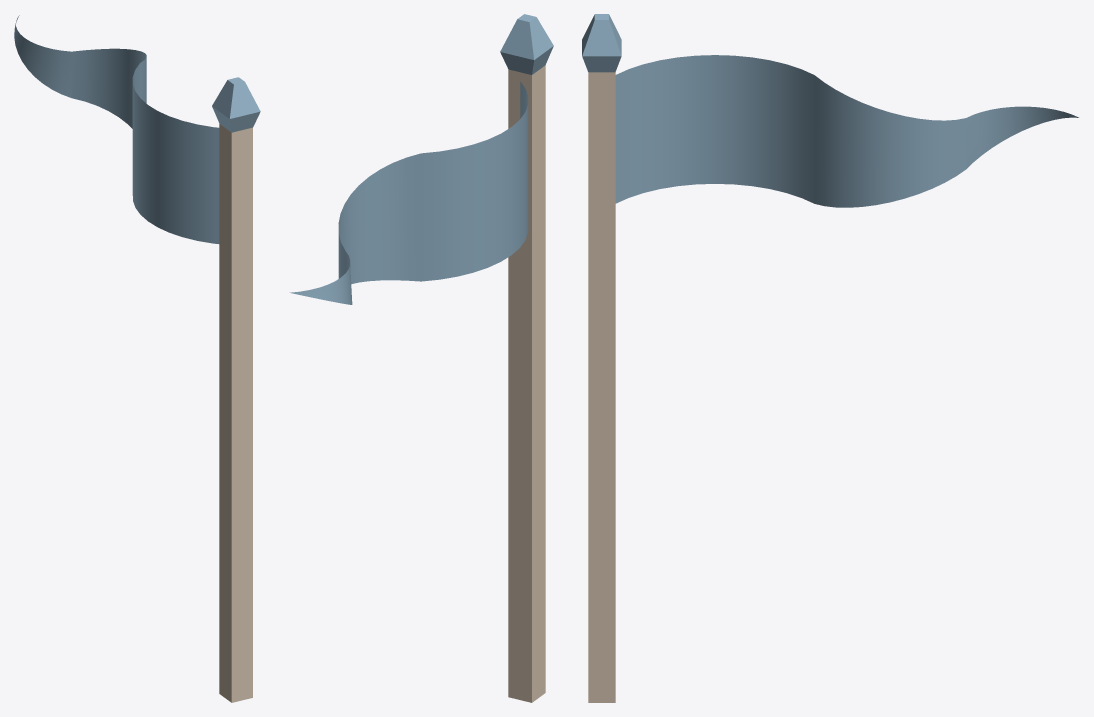
File: flagBlue.glb
The picture shows the model from 3 angles, left to right: view 1: azimuth 30°, elevation 25°; view 2: azimuth 150°, elevation 25°; view 3: azimuth 270°, elevation 25°; orthographic projection. The views are drawn at different scales.
Parts seen in each view (by area): view 1: flagBlue, flag; view 2: flag, flagBlue; view 3: flag, flagBlue.
Boxes of the visible parts, <box> form: flagBlue: <box>212,77,260,702</box>; flag: <box>14,15,219,243</box>; flag: <box>289,81,528,304</box>; flagBlue: <box>500,14,553,702</box>; flag: <box>615,55,1078,207</box>; flagBlue: <box>582,14,621,702</box>.
Size of the model in its own units: 0.8991 by 7.92 by 5.25.
